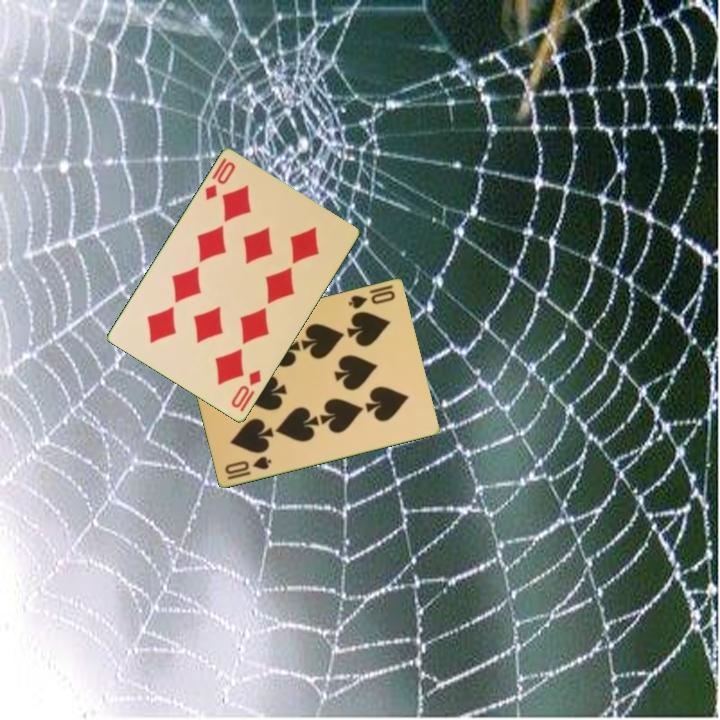10d: (201, 155, 239, 203), (227, 367, 264, 411)
10s: (221, 452, 274, 482), (345, 286, 398, 311)
